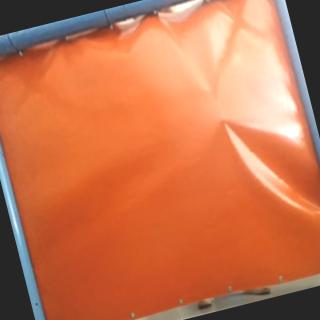Hit-hRxx: (215, 111, 231, 126)
